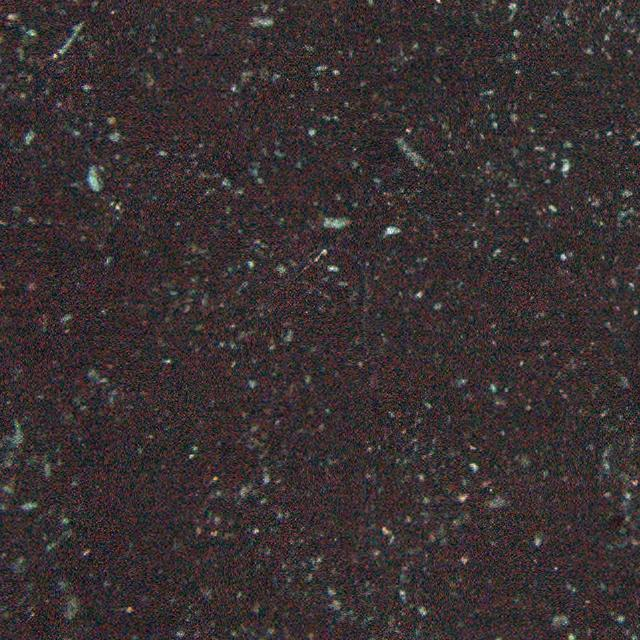eel: (288, 240, 371, 350)
